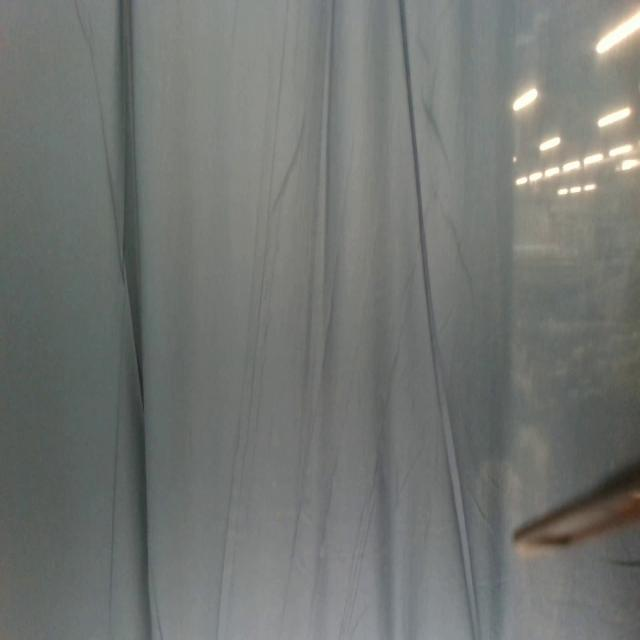crease: (397, 0, 482, 638), (215, 0, 292, 639), (75, 4, 124, 287), (107, 294, 126, 630), (271, 108, 309, 216), (320, 251, 341, 380), (607, 552, 640, 570)
